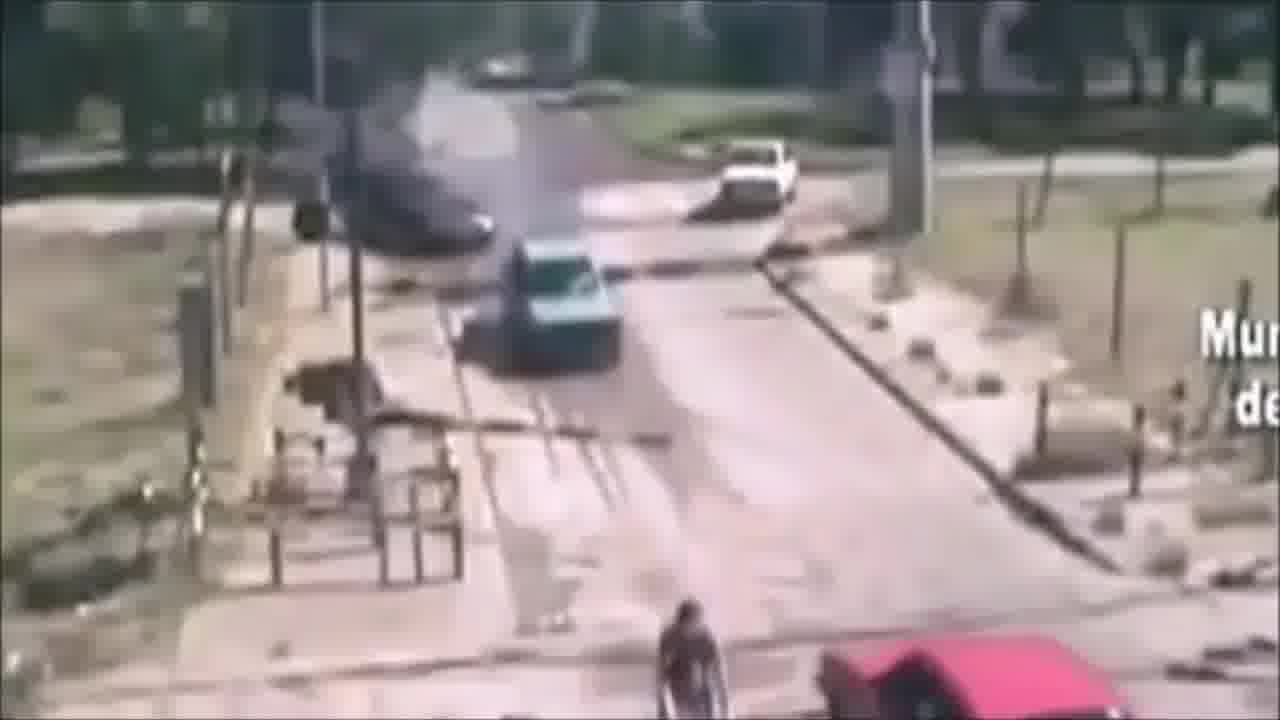crossing railway track: (784, 604, 1196, 720), (628, 577, 775, 720)
